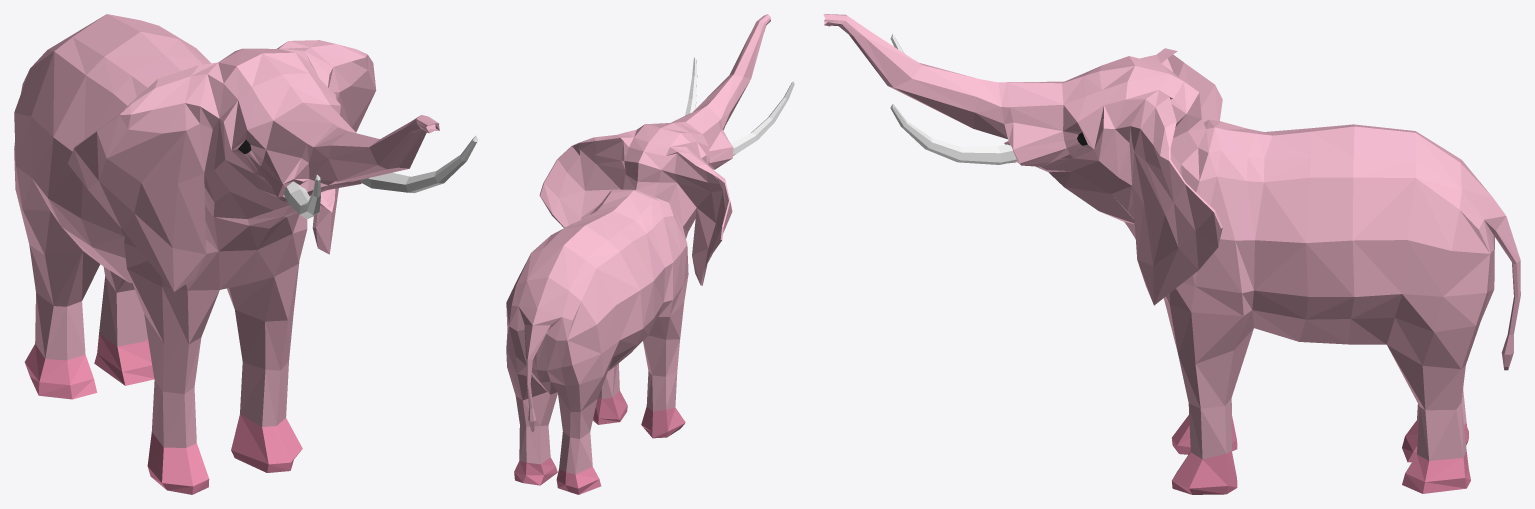
The model's file is animal_013.fbx.
The picture shows the model from 3 angles, left to right: view 1: azimuth 30°, elevation 25°; view 2: azimuth 150°, elevation 25°; view 3: azimuth 270°, elevation 25°; orthographic projection. The views are drawn at different scales.
Parts seen in each view (by area): view 1: animal.013; view 2: animal.013; view 3: animal.013.
Part boxes in pixels (left/top/right/bottom): animal.013: left=14, top=14, right=477, bottom=494; animal.013: left=506, top=14, right=794, bottom=494; animal.013: left=823, top=14, right=1520, bottom=494.
Size of the model in its own units: 499 by 817 by 1137.
Materials: 1 (1 with a texture image).
